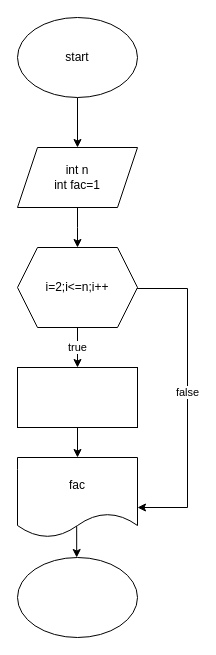
The diagram is 216 pixels wide and 655 high, and some of its shapes have lost their labels. The centre of each missing label's shape, as x and y in pixels:
end: (x=77, y=597)
fac*=i: (x=77, y=397)
